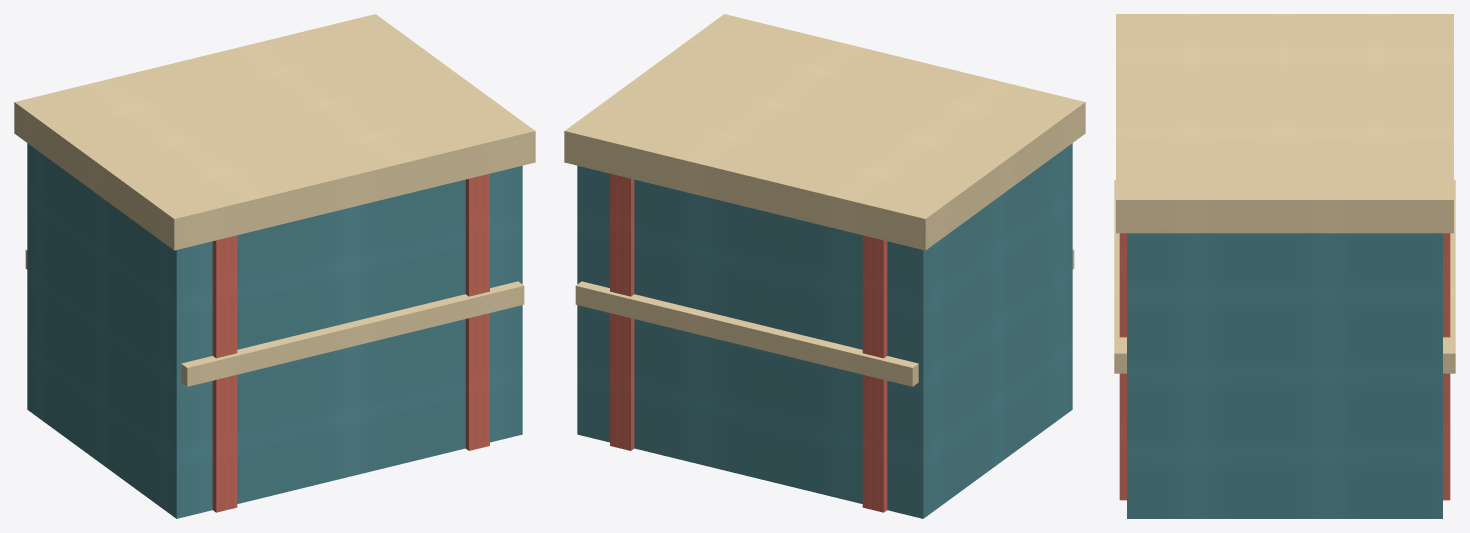
File: atlas100-atompunk-util02.lod1.glb
The picture shows the model from 3 angles, left to right: view 1: azimuth 30°, elevation 25°; view 2: azimuth 150°, elevation 25°; view 3: azimuth 270°, elevation 25°; orthographic projection. The views are drawn at different scales.
Visible parts, largest first — view 1: atlas100-atompunk-util02:part-000, atlas100-atompunk-util02:part-005, atlas100-atompunk-util02:part-004, atlas100-atompunk-util02:part-001, atlas100-atompunk-util02:part-002; view 2: atlas100-atompunk-util02:part-000, atlas100-atompunk-util02:part-005, atlas100-atompunk-util02:part-003, atlas100-atompunk-util02:part-001, atlas100-atompunk-util02:part-002; view 3: atlas100-atompunk-util02:part-000, atlas100-atompunk-util02:part-005, atlas100-atompunk-util02:part-002, atlas100-atompunk-util02:part-003, atlas100-atompunk-util02:part-004.
Boxes of the visible parts, <box> form: atlas100-atompunk-util02:part-000: <box>27,143,522,518</box>; atlas100-atompunk-util02:part-005: <box>14,14,535,250</box>; atlas100-atompunk-util02:part-004: <box>181,281,524,386</box>; atlas100-atompunk-util02:part-001: <box>212,235,237,512</box>; atlas100-atompunk-util02:part-002: <box>465,173,489,450</box>; atlas100-atompunk-util02:part-000: <box>577,143,1072,518</box>; atlas100-atompunk-util02:part-005: <box>564,14,1085,250</box>; atlas100-atompunk-util02:part-003: <box>575,281,918,386</box>; atlas100-atompunk-util02:part-001: <box>862,235,887,512</box>; atlas100-atompunk-util02:part-002: <box>610,173,634,450</box>; atlas100-atompunk-util02:part-000: <box>1127,233,1442,518</box>; atlas100-atompunk-util02:part-005: <box>1116,14,1453,233</box>; atlas100-atompunk-util02:part-002: <box>1119,233,1450,500</box>; atlas100-atompunk-util02:part-003: <box>1443,180,1455,373</box>; atlas100-atompunk-util02:part-004: <box>1114,180,1126,373</box>.
Bounding box in the file's own units: 1.23 × 0.9923 × 0.9514.
Materials: 3 (3 with a texture image).
